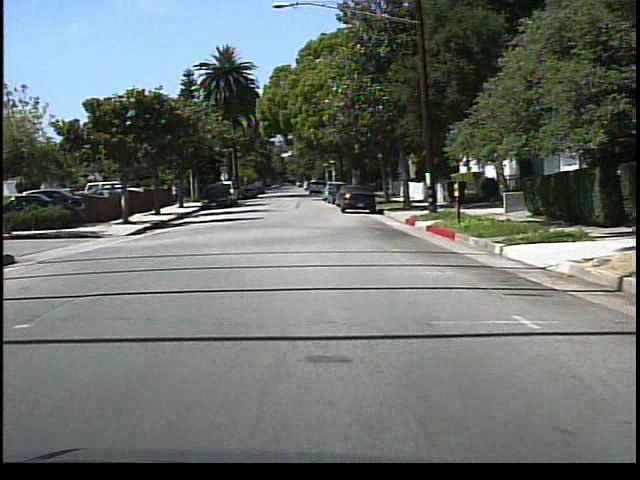person: (170, 180, 184, 207)
